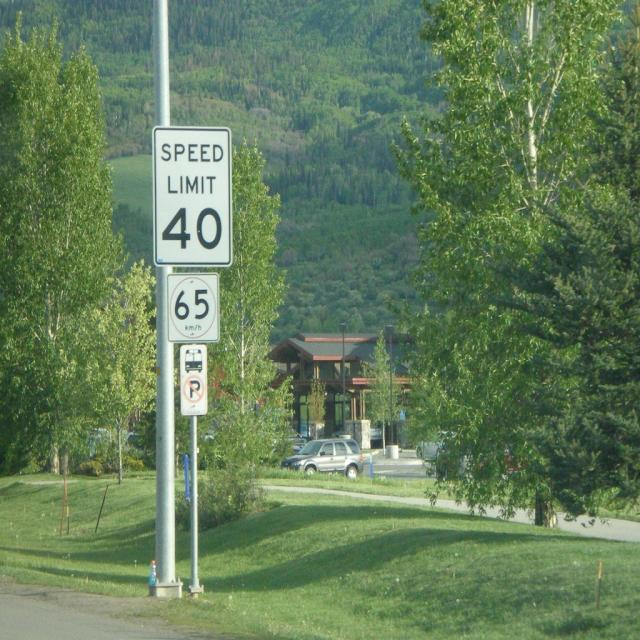speedLimit40: (152, 126, 231, 262)
